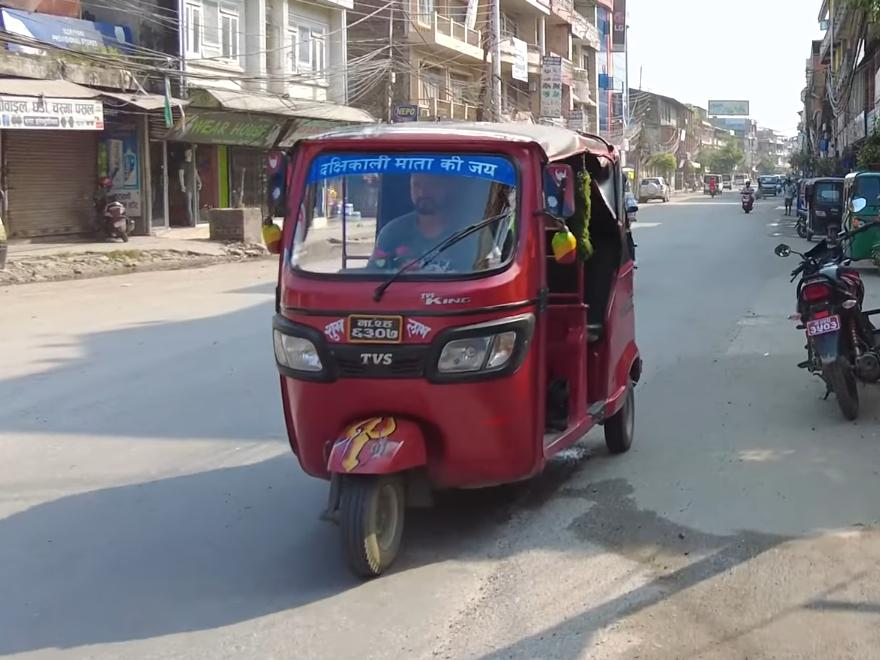auto_rickshaw: (259, 114, 644, 581)
